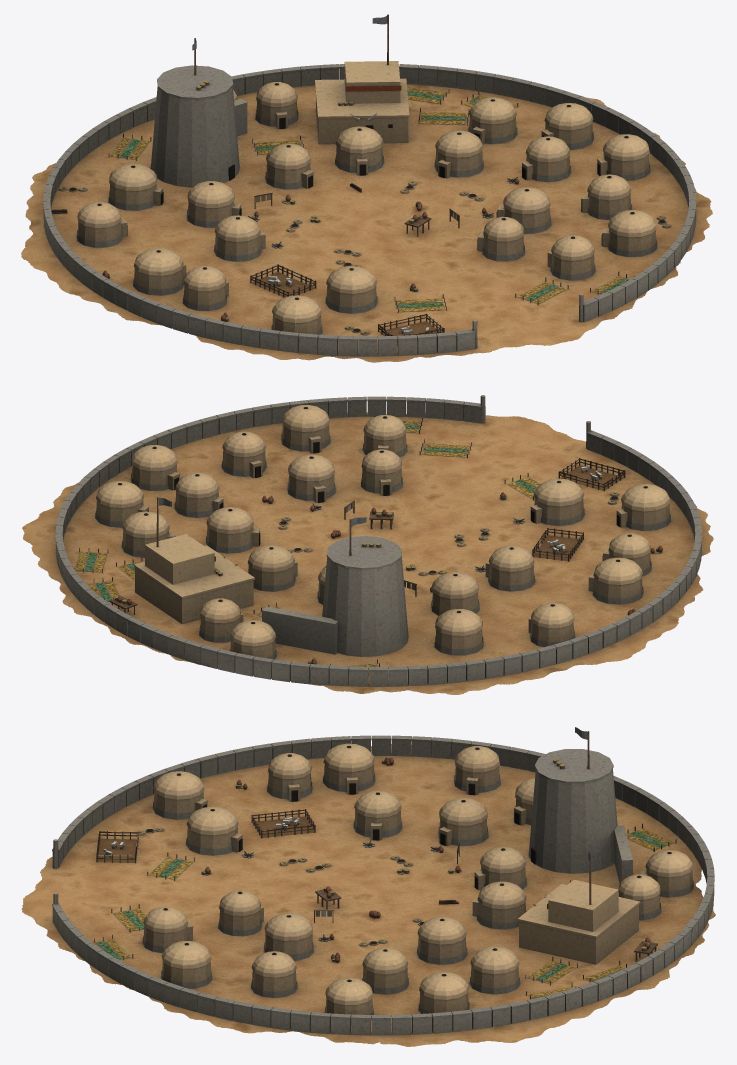
The model's file is stone-town-big-a-levant.glb.
3 views of the same model, one above another, from view 1: azimuth 30°, elevation 25°; view 2: azimuth 150°, elevation 25°; view 3: azimuth 270°, elevation 25° (orthographic). The views are drawn at different scales.
Visible parts, largest first — view 1: LOD0; view 2: LOD0; view 3: LOD0.
Part boxes in pixels (left/top/right/bottom): LOD0: left=21, top=14, right=712, bottom=362; LOD0: left=22, top=395, right=713, bottom=694; LOD0: left=21, top=727, right=715, bottom=1046.
Size of what is drawn, in the model's own units: 7.98 by 1.55 by 7.72.
3 materials, 3 textured.
